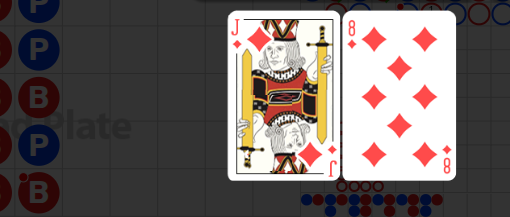8D: (346, 19, 358, 51)
JD: (229, 17, 242, 50)
